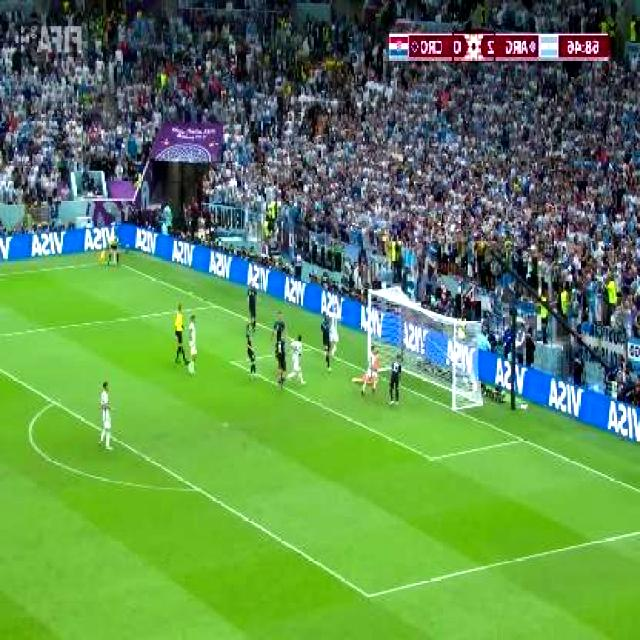bigarea_bottom_inner: (357, 578, 380, 610)
bigarea_top_outter: (208, 296, 223, 312)
bottom_arc_area_intersection: (188, 475, 209, 500)
corner: (109, 255, 126, 268)
smallarea_bottom_inner: (422, 443, 442, 471)
smallarea_bottom_outter: (512, 426, 532, 449)
smallarea_top_inner: (226, 351, 243, 371)
top_arc_area_intersection: (46, 391, 63, 411)
